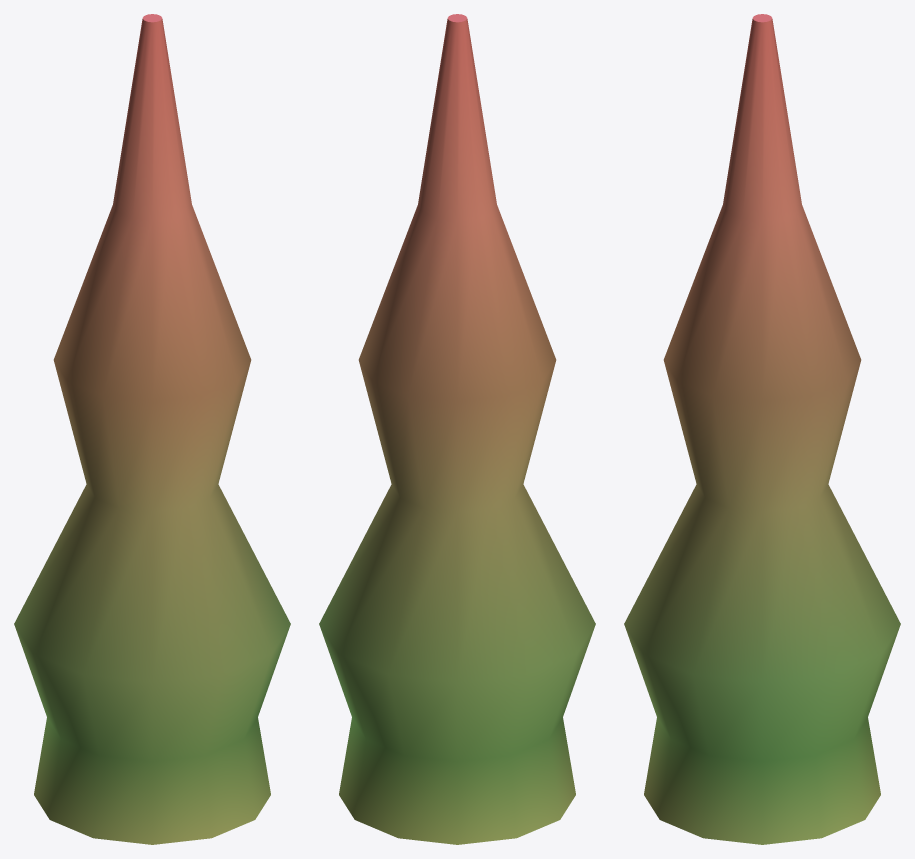
The model's file is gilt_finial.glb.
The picture shows the model from 3 angles, left to right: view 1: azimuth 30°, elevation 25°; view 2: azimuth 150°, elevation 25°; view 3: azimuth 270°, elevation 25°; orthographic projection.
Visible parts, largest first — view 1: gilt_finial; view 2: gilt_finial; view 3: gilt_finial.
Part boxes in pixels (bbox=[...]): gilt_finial: bbox=[14, 14, 290, 844]; gilt_finial: bbox=[319, 14, 595, 844]; gilt_finial: bbox=[624, 14, 900, 844].
Bounding box in the file's own units: 0.42 × 1.3 × 0.42.
